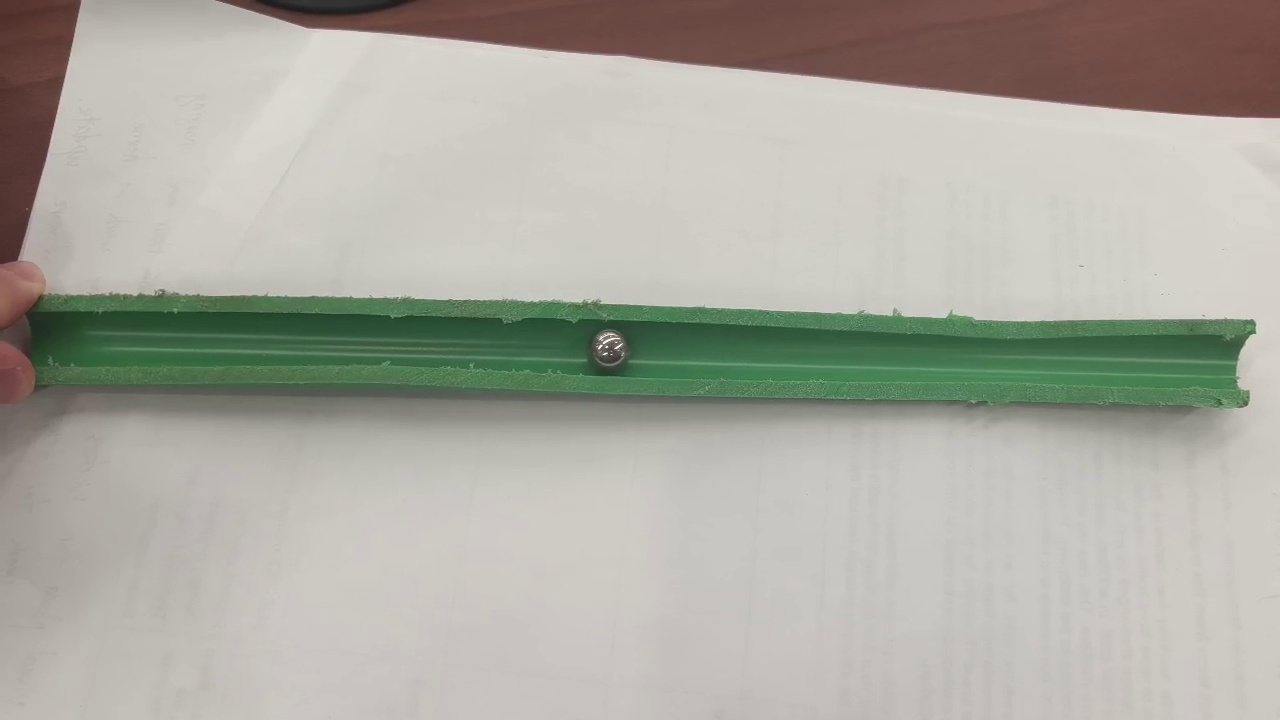ball: (592, 330, 628, 369)
